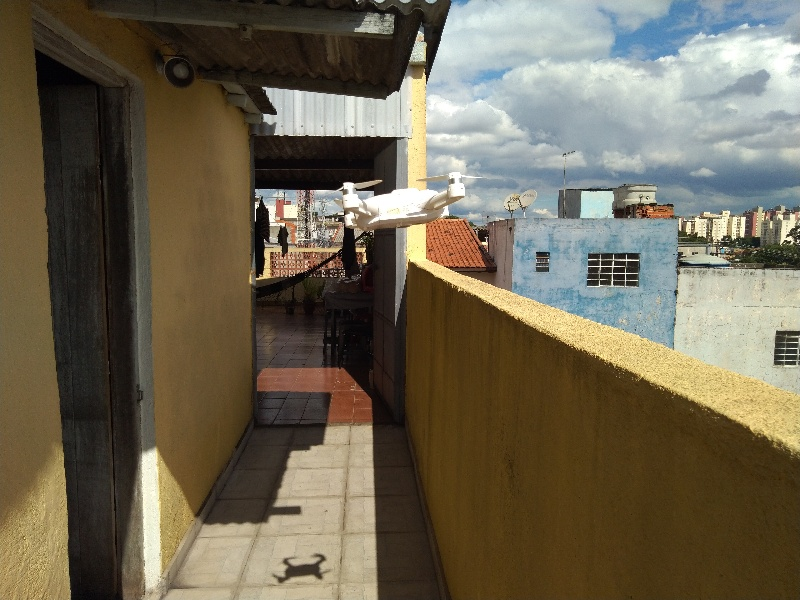drone: (336, 169, 483, 245)
